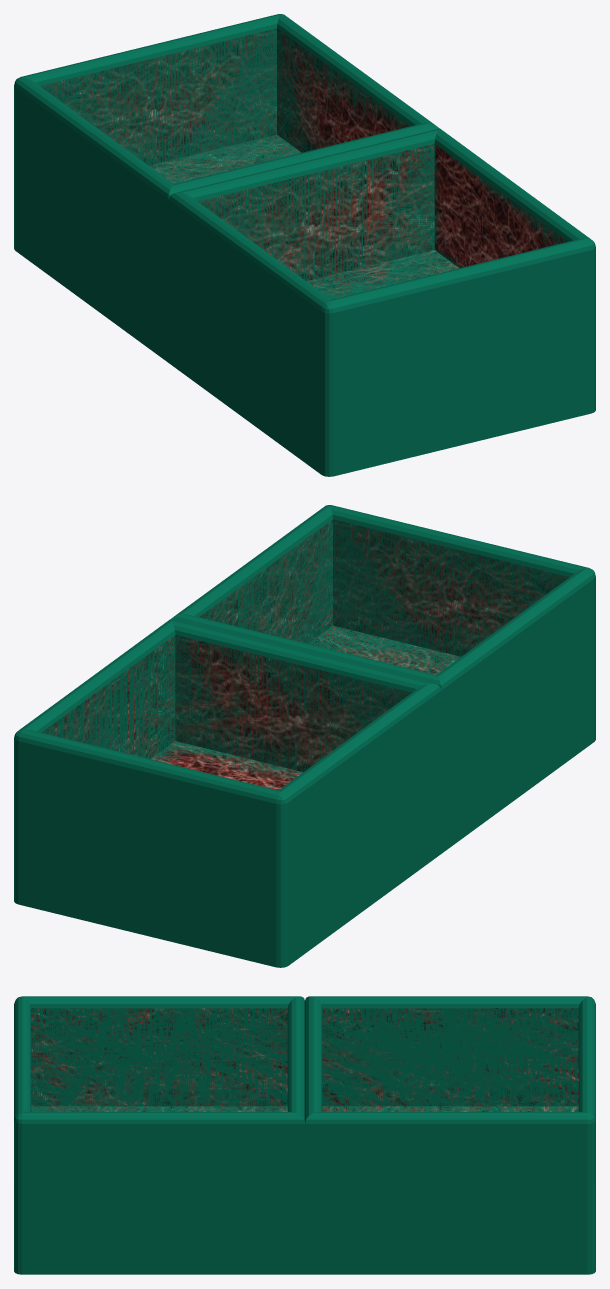
The model's file is twobox.fbx.
3 views of the same model, one above another, from view 1: azimuth 30°, elevation 25°; view 2: azimuth 150°, elevation 25°; view 3: azimuth 270°, elevation 25° (orthographic). The views are drawn at different scales.
Visible parts, largest first — view 1: Cube; view 2: Cube; view 3: Cube.
Part boxes in pixels (box(x1,y1,x2,y2)): Cube: box(14, 14, 595, 476); Cube: box(14, 505, 595, 967); Cube: box(14, 996, 595, 1274).
Size of the model in its own units: 200 by 120 by 400.
2 materials, 1 textured.
